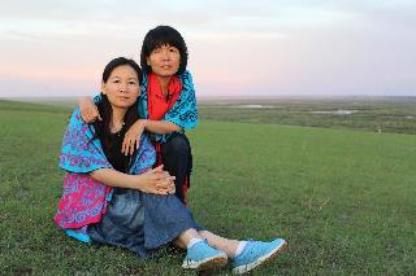person: (55, 53, 290, 271), (133, 20, 204, 210)
